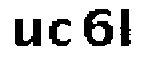6: (81, 4, 115, 48)
c: (47, 16, 74, 48)
l: (117, 6, 140, 50)
u: (11, 14, 43, 49)
